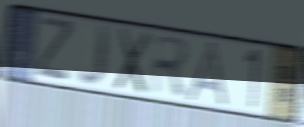1: (243, 47, 262, 112)
A: (183, 39, 232, 109)
J: (76, 21, 113, 90)
R: (149, 32, 192, 99)
X: (112, 25, 154, 98)
Z: (34, 14, 76, 85)
